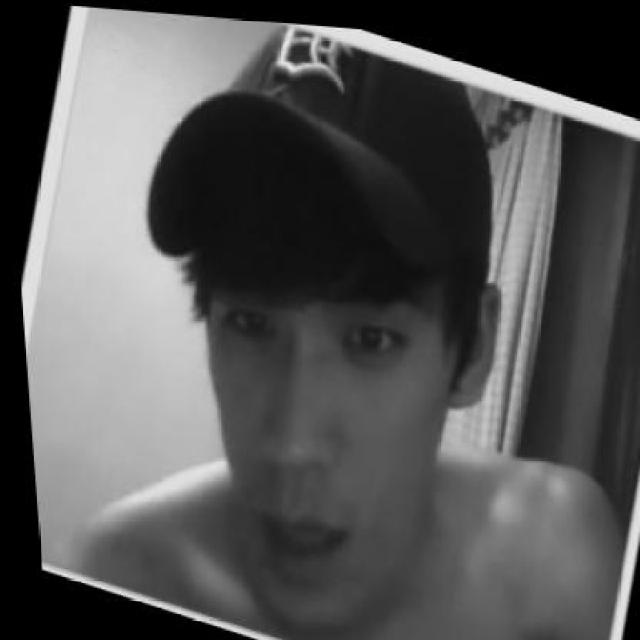hat: (144, 19, 489, 268)
